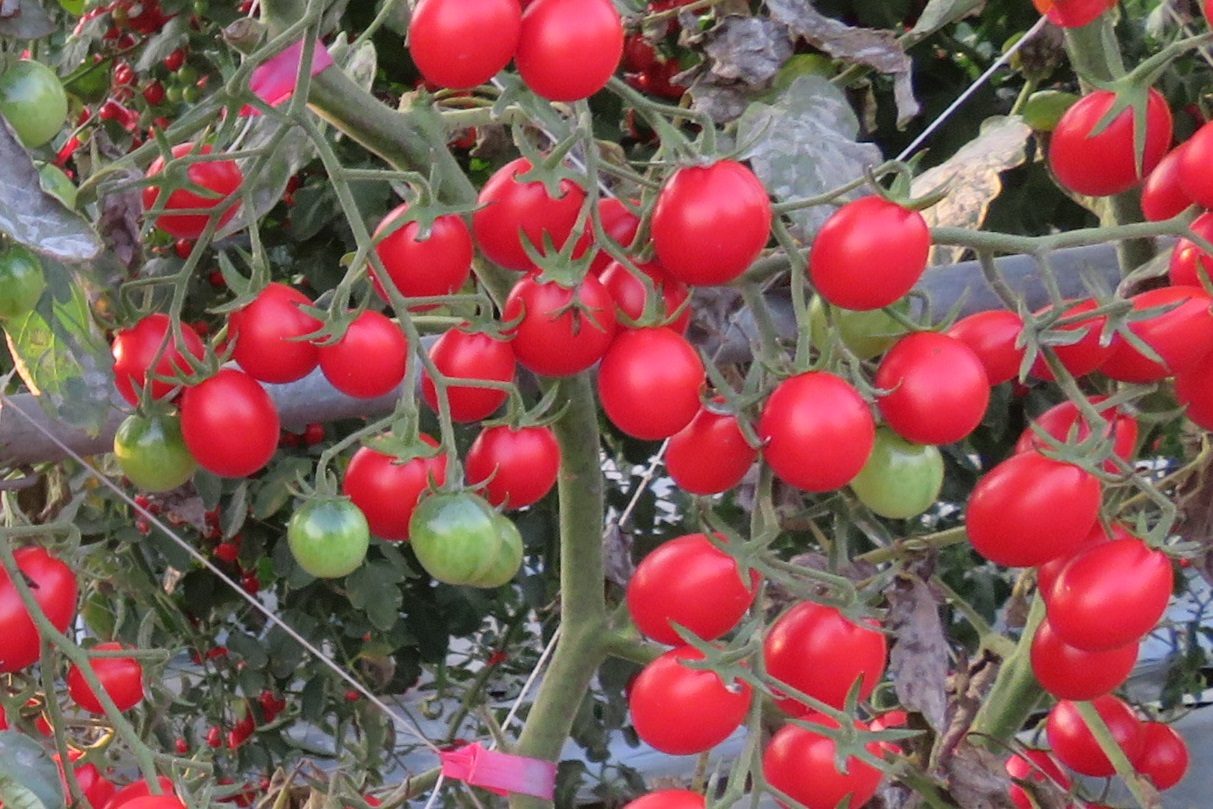green: (404, 486, 499, 588), (853, 427, 946, 523), (285, 488, 366, 577), (111, 405, 187, 499), (3, 55, 74, 152), (181, 84, 203, 108), (175, 63, 197, 87), (166, 85, 183, 108)
red: (649, 147, 774, 285), (760, 589, 895, 715), (965, 449, 1115, 561), (628, 528, 766, 649), (1052, 530, 1183, 655), (624, 636, 757, 756), (1040, 80, 1174, 198), (757, 368, 877, 498), (871, 327, 994, 447), (806, 189, 932, 306), (475, 151, 598, 269), (341, 431, 465, 546), (365, 195, 480, 314), (595, 320, 706, 439), (174, 366, 287, 481), (759, 716, 888, 809), (1, 541, 81, 677), (516, 1, 619, 106), (420, 319, 520, 426), (407, 1, 521, 94), (224, 278, 324, 384), (1011, 393, 1145, 472), (141, 141, 248, 239), (467, 411, 569, 513), (111, 310, 214, 408), (516, 269, 612, 374), (667, 392, 758, 498), (1113, 288, 1213, 381), (1045, 691, 1144, 780), (317, 311, 408, 398), (948, 306, 1039, 390), (1033, 296, 1117, 381), (66, 641, 151, 714), (1171, 205, 1213, 288), (141, 76, 164, 106), (224, 727, 248, 752)
